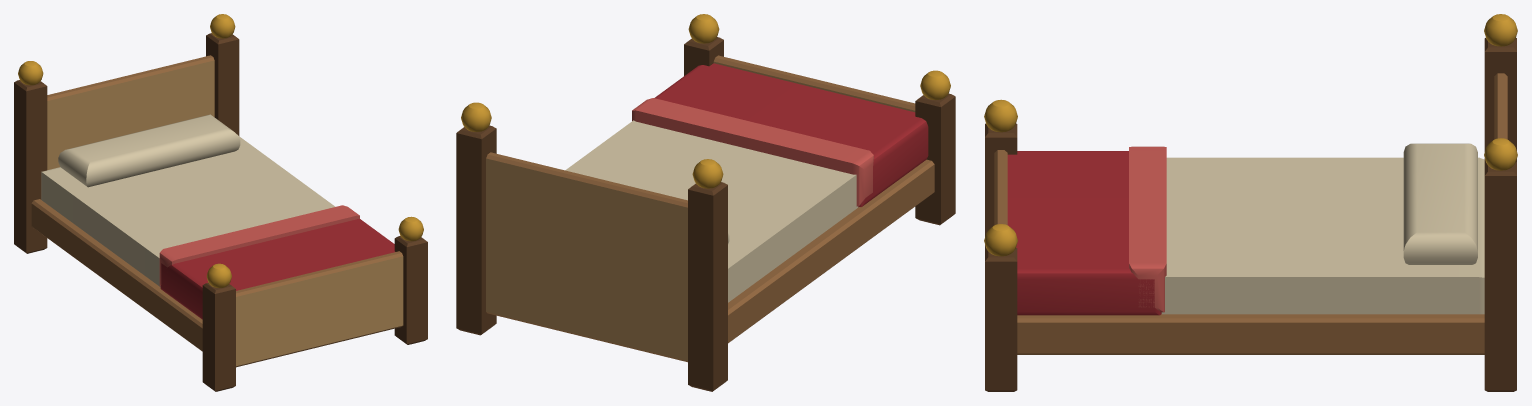
Rendered from Bed_07.glb.
3 renders of one model, left to right at view 1: azimuth 30°, elevation 25°; view 2: azimuth 150°, elevation 25°; view 3: azimuth 270°, elevation 25°, orthographic. The views are drawn at different scales.
Parts seen in each view (by area): view 1: Bed_07; view 2: Bed_07; view 3: Bed_07.
Boxes of the visible parts, left/top/right/bottom form: Bed_07: left=14, top=14, right=427, bottom=391; Bed_07: left=456, top=14, right=955, bottom=391; Bed_07: left=984, top=14, right=1517, bottom=391.
Size of the model in its own units: 4.85 by 4.03 by 7.9.
